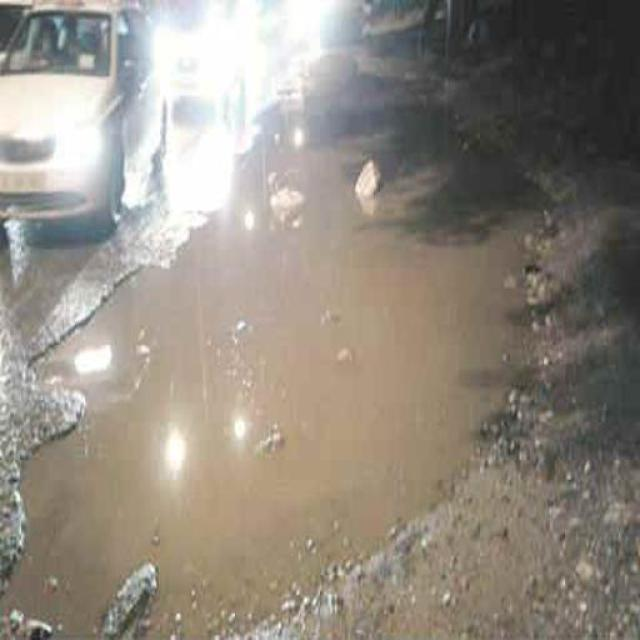puddle: (84, 109, 463, 628)
